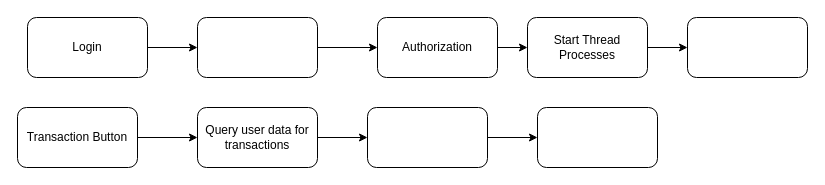
This 825x185 diagram has some shape labels left out. The centre of each missing label's shape, as x and y in pixels:
Authentication: the point at 257,47
Launch Home: the point at 747,47
Make API calls for Plaid API: the point at 427,137
